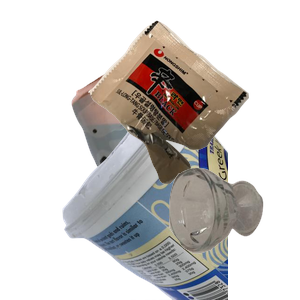glass: (166, 165, 300, 300)
metal: (69, 58, 300, 238)
plastic: (60, 120, 300, 300)
trash: (86, 18, 300, 194)
